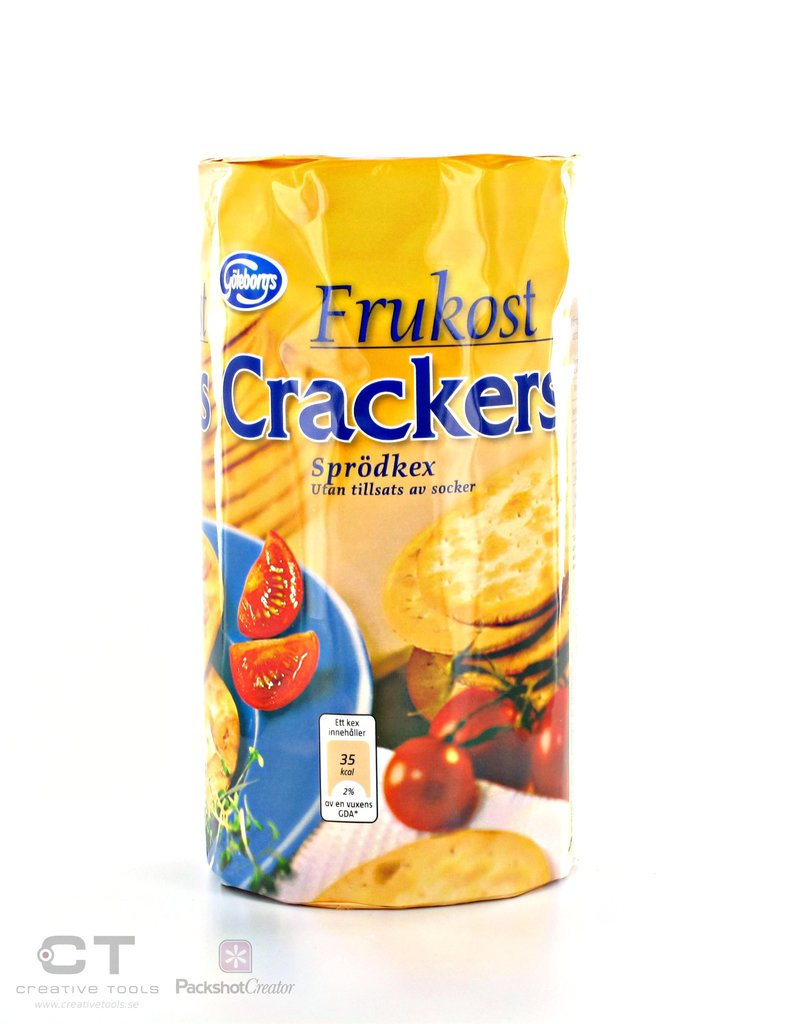Tomato: (429, 681, 530, 789), (387, 735, 471, 829), (230, 630, 319, 710), (235, 534, 303, 637), (521, 688, 575, 797)
